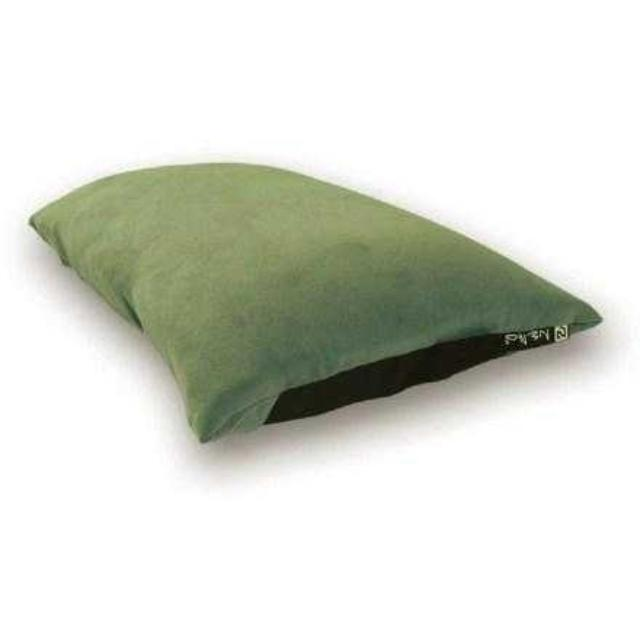pillow: (26, 158, 604, 444)
